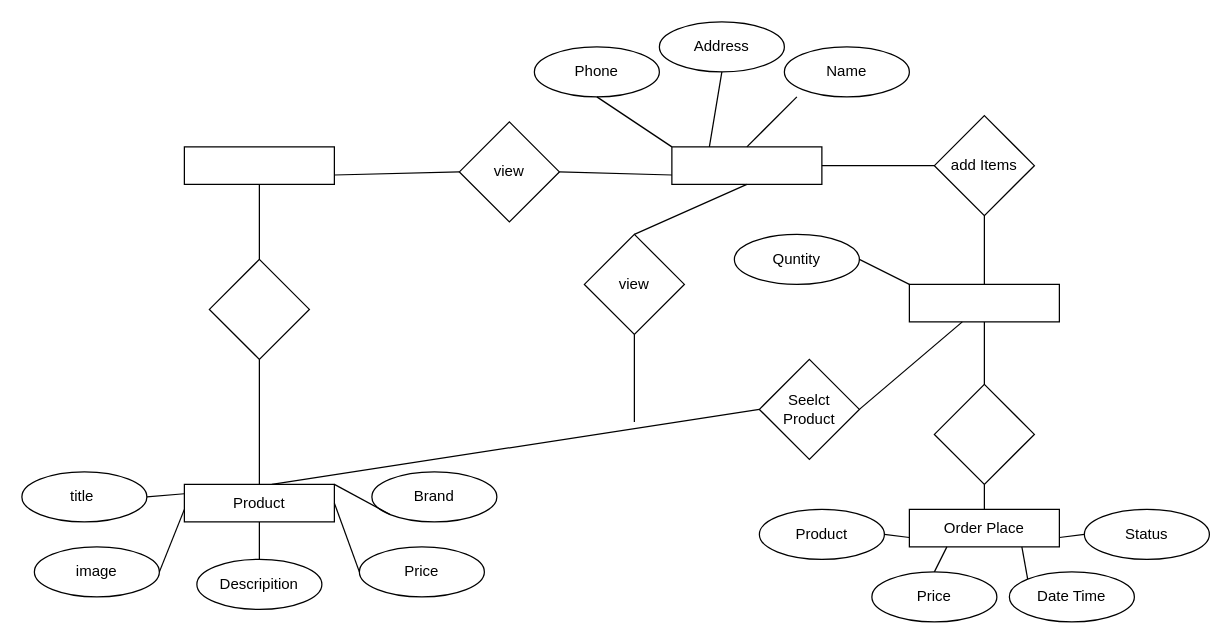
Some shapes in this 1231 by 644 pixel diagram are drawn without their labels. Here are the shapes that lost their labels. From the top down, the centre of each, then its label:
At [258,165]: "User".
At [746,165]: "Customer".
At [258,308]: "Add Product".
At [983,302]: "Cart".
At [983,433]: "Place Order".
